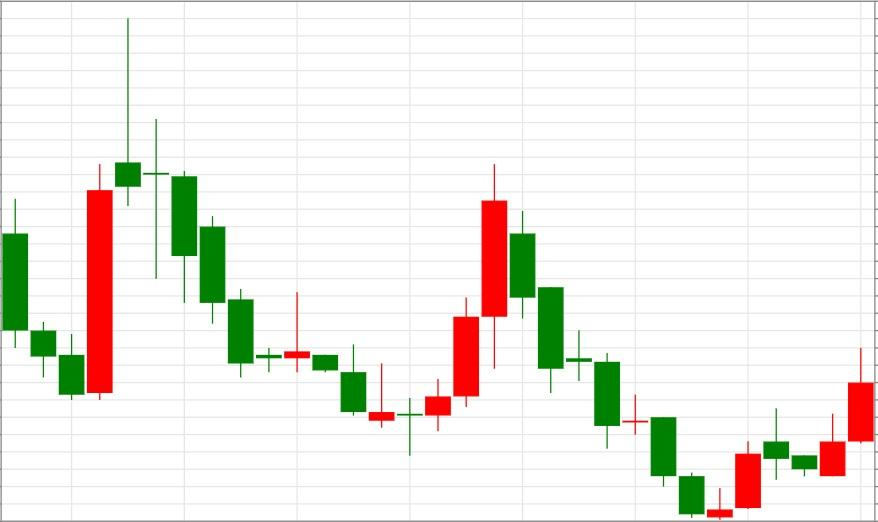bullish_engulfing_rise: (0, 162, 114, 400)
morning_star_rise: (480, 162, 763, 522)
shooting_star_fall: (58, 17, 142, 400)
